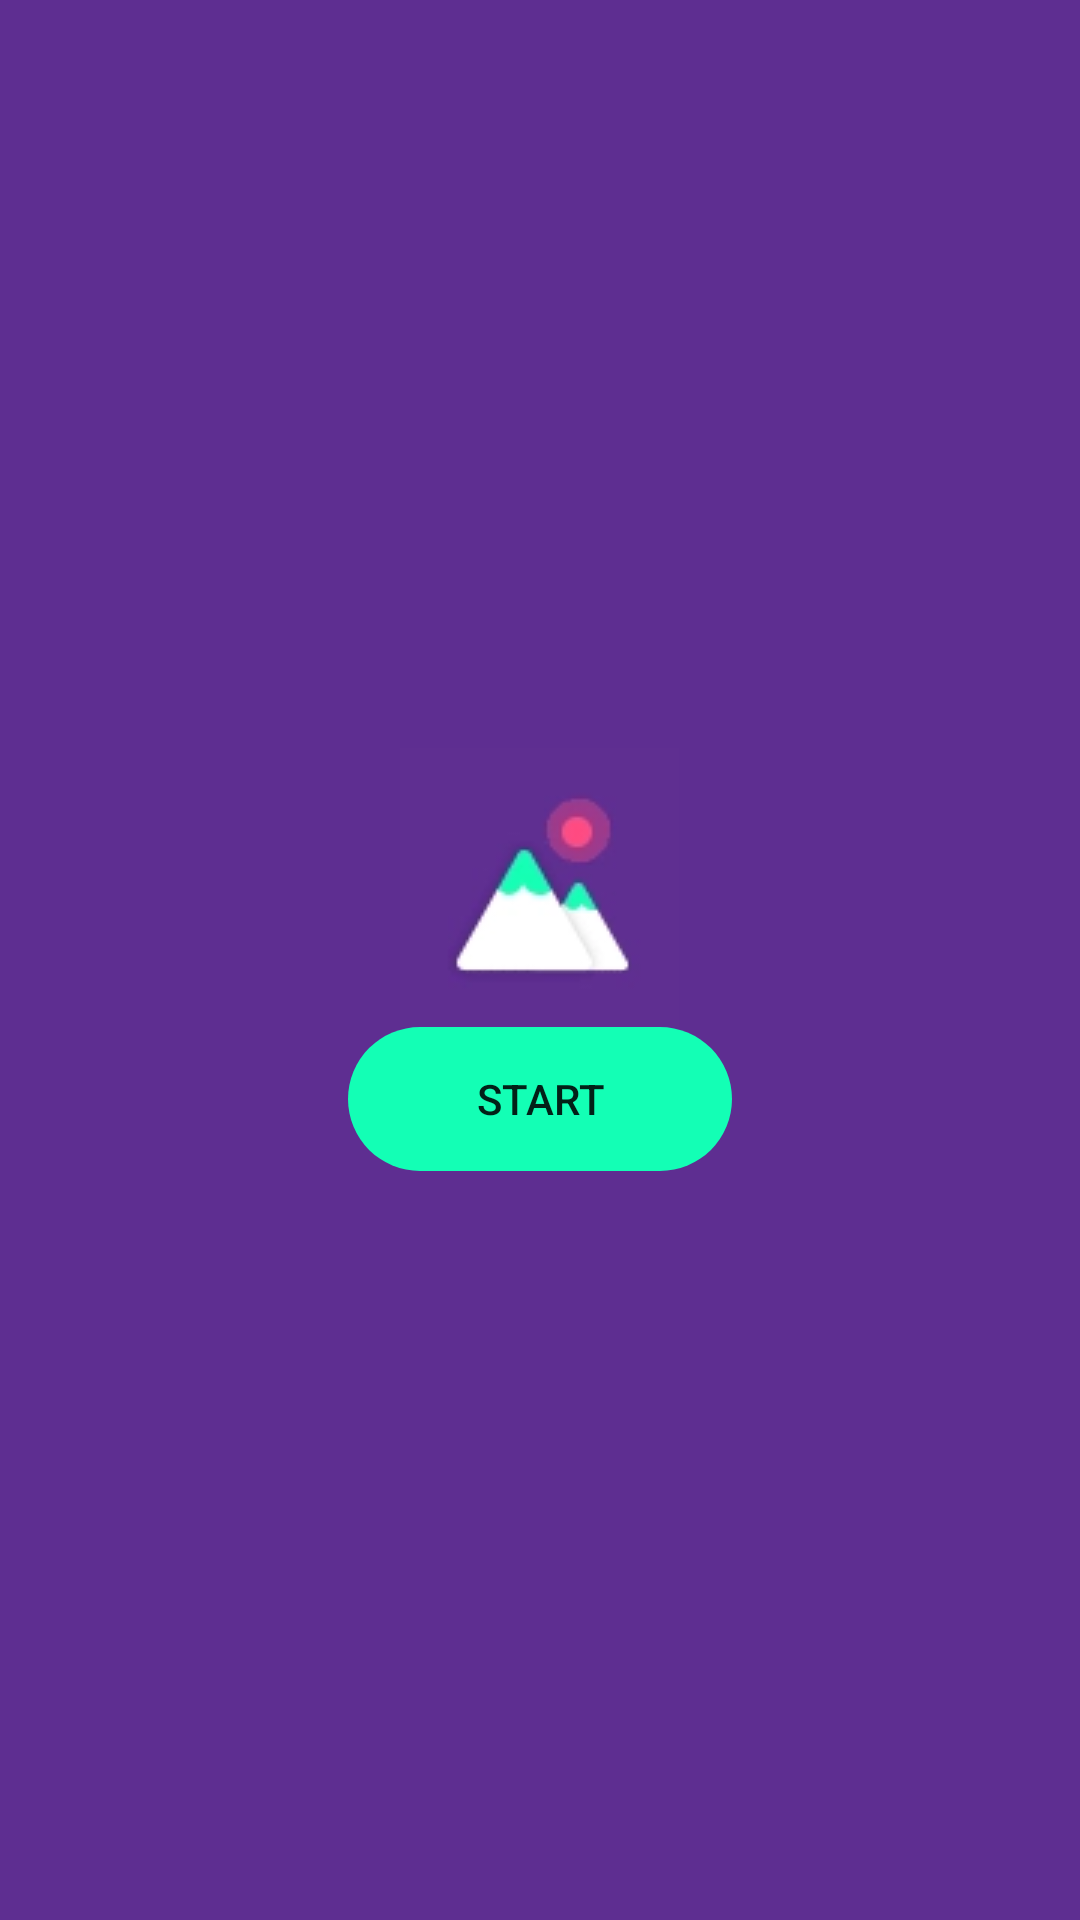

Where icons sit on this 1080w x 1920h app screen, as (x1, y1, x2, y2):
mountain: (455, 798, 629, 972)
